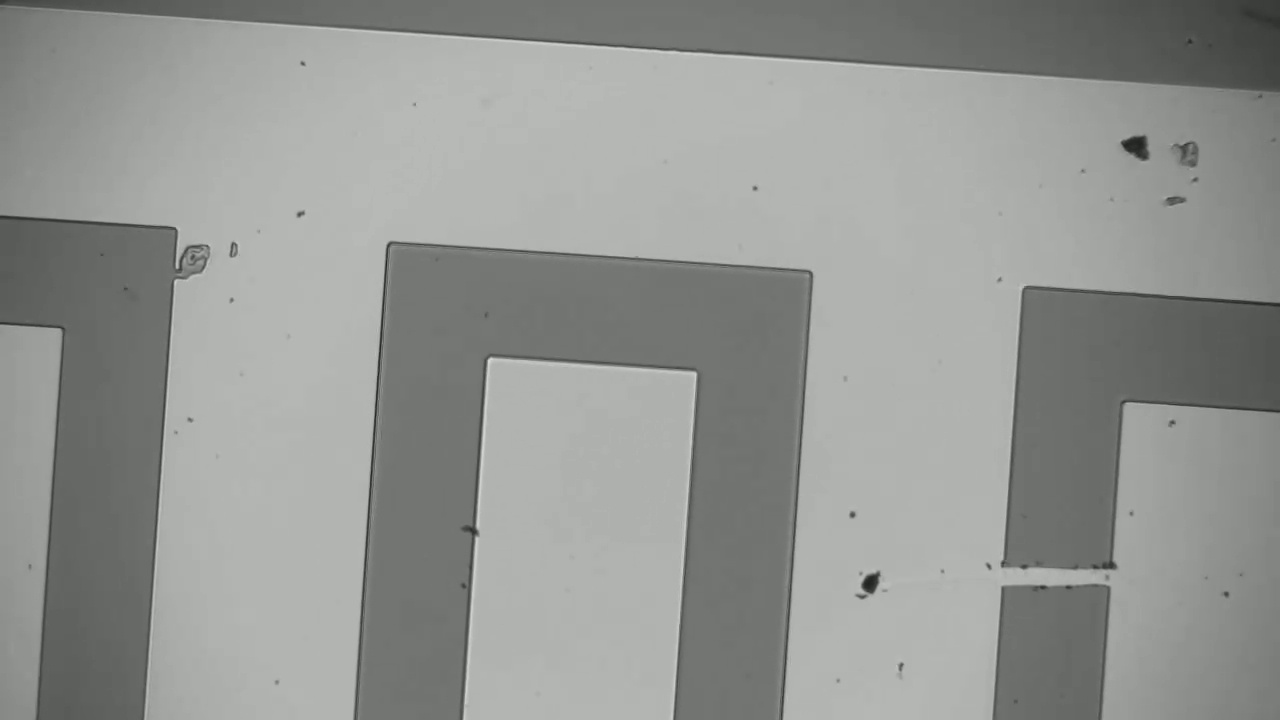Short_circuit: (966, 528, 1153, 604)
